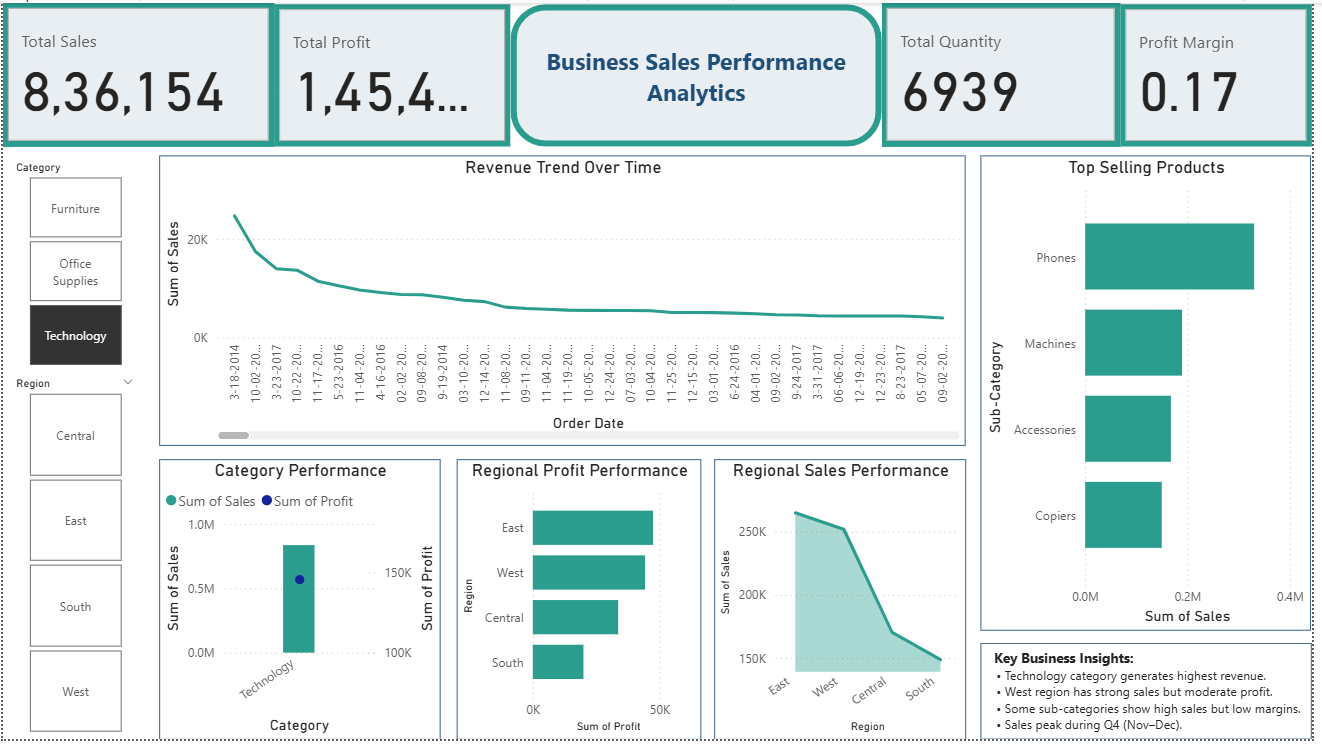

The dashboard page shown, as its layout file describes it:
{"tool":"powerbi","page":{"name":"Page 1","canvas":[1280,720],"ordinal":0},"visuals":[{"type":"cardVisual","fields":{"Data":["all measures (2).Total Sales"]},"box":[0,0,265.4,140.6],"z":0},{"type":"cardVisual","fields":{"Data":["all measures (2).Total Profit"]},"box":[265.4,1.2,231.1,139.4],"z":1000},{"type":"cardVisual","fields":{"Data":["all measures (2).Total Quantity"]},"box":[859.6,0,233.6,140.6],"z":2000},{"type":"cardVisual","fields":{"Data":["all measures (2).Profit Margin"]},"box":[1093.2,1.2,187.1,139.4],"z":3000},{"type":"lineChart","title":"Revenue Trend Over Time","fields":{"Category":["Sample - Superstore.Order Date"],"Y":["Sum(Sample - Superstore.Sales)"]},"box":[152.9,148.6,789.2,284.2],"z":4000},{"type":"clusteredBarChart","title":"Top Selling Products","fields":{"Category":["Sample - Superstore.Sub-Category"],"Y":["Sum(Sample - Superstore.Sales)"]},"box":[956.5,148.6,323.2,464.6],"z":5000},{"type":"areaChart","title":"Regional Sales Performance","fields":{"Category":["Sample - Superstore.Region"],"Y":["Sum(Sample - Superstore.Sales)"]},"box":[695.4,445.8,246.7,274.1],"z":6000},{"type":"barChart","title":"Regional Profit Performance","fields":{"Category":["Sample - Superstore.Region"],"Y":["Sum(Sample - Superstore.Profit)"]},"box":[444.4,445.8,239.5,274.1],"z":7000},{"type":"lineStackedColumnComboChart","title":"Category Performance ","fields":{"Y":["Sum(Sample - Superstore.Sales)"],"Y2":["Sum(Sample - Superstore.Profit)"],"Category":["Sample - Superstore.Category"]},"box":[152.9,445.8,275.6,274.1],"z":8000},{"type":"slicer","fields":{"Values":["Sample - Superstore.Region"]},"box":[0,360.7,139.9,359.2],"z":9000},{"type":"slicer","fields":{"Values":["Sample - Superstore.Category"]},"box":[0,148.6,139.9,212.1],"z":10000},{"type":"textbox","box":[956.3,626.1,324.1,94.2],"z":11000},{"type":"shape","box":[496.5,1.2,363.2,139.4],"z":11001}]}

Visuals, with their boxes in screenshot pixels (x1, y1, x2, y2), scaled from the page's 1280x720 canvas onto the 1322x748 screenshot:
cardVisual - all measures (2).Total Sales: locate(0, 0, 274, 146)
cardVisual - all measures (2).Total Profit: locate(274, 1, 513, 146)
cardVisual - all measures (2).Total Quantity: locate(888, 0, 1129, 146)
cardVisual - all measures (2).Profit Margin: locate(1129, 1, 1321, 146)
"Revenue Trend Over Time" lineChart: locate(158, 154, 973, 450)
"Top Selling Products" clusteredBarChart: locate(988, 154, 1321, 637)
"Regional Sales Performance" areaChart: locate(718, 463, 973, 747)
"Regional Profit Performance" barChart: locate(459, 463, 706, 747)
"Category Performance " lineStackedColumnComboChart: locate(158, 463, 443, 747)
slicer - Sample - Superstore.Region: locate(0, 375, 144, 747)
slicer - Sample - Superstore.Category: locate(0, 154, 144, 375)
textbox: locate(988, 650, 1321, 747)
shape: locate(513, 1, 888, 146)
